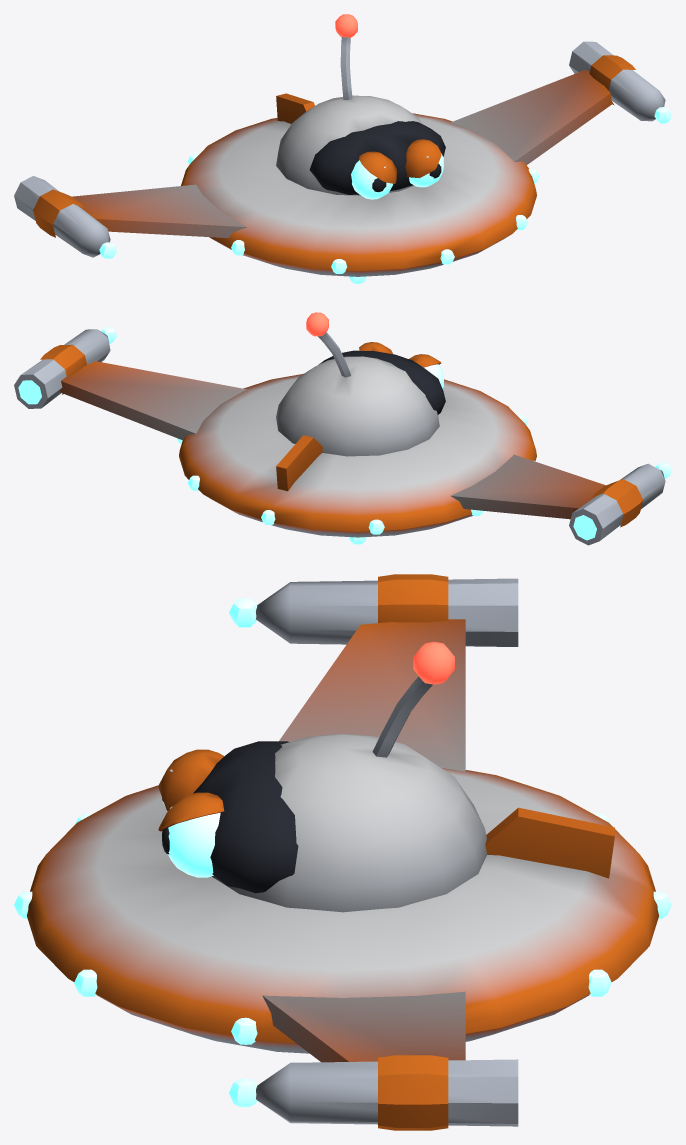
File: flyer_space.glb
The picture shows the model from 3 angles, top to bottom: view 1: azimuth 30°, elevation 25°; view 2: azimuth 150°, elevation 25°; view 3: azimuth 270°, elevation 25°; orthographic projection. The views are drawn at different scales.
Parts seen in each view (by area): view 1: body, wing_L, wing_R; view 2: body, wing_L, wing_R; view 3: body, wing_R, wing_L.
Part boxes in pixels (x1,y1,x2,y2): body: [181, 14, 539, 283]; wing_L: [451, 41, 671, 164]; wing_R: [14, 176, 247, 258]; body: [177, 312, 536, 544]; wing_L: [14, 327, 247, 440]; wing_R: [450, 454, 671, 545]; body: [14, 641, 671, 1053]; wing_R: [229, 574, 518, 771]; wing_L: [229, 991, 518, 1130].
Size of the model in its own units: 1.38 by 0.467 by 0.75.
